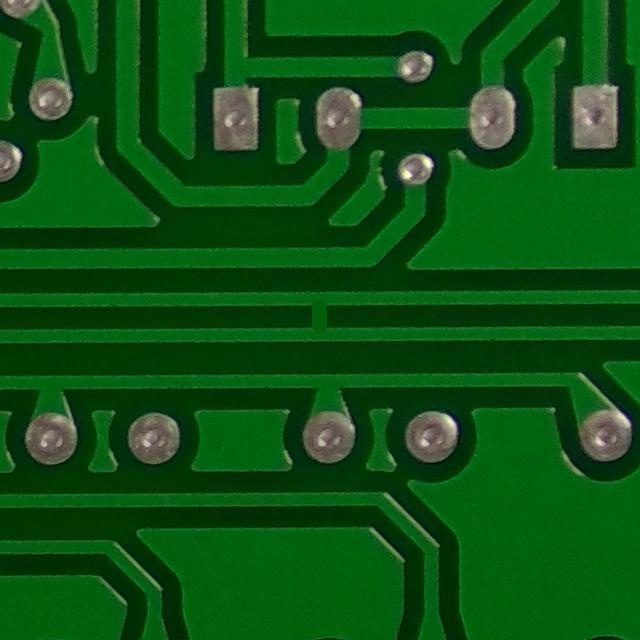short: (294, 286, 345, 355)
